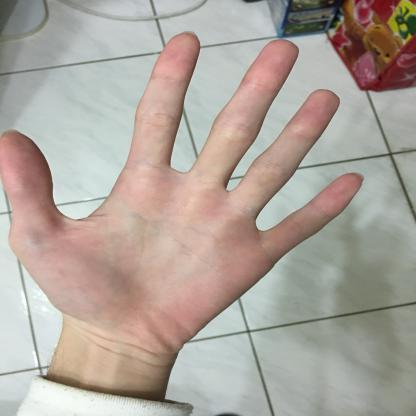bare_hand: (0, 19, 371, 415)
